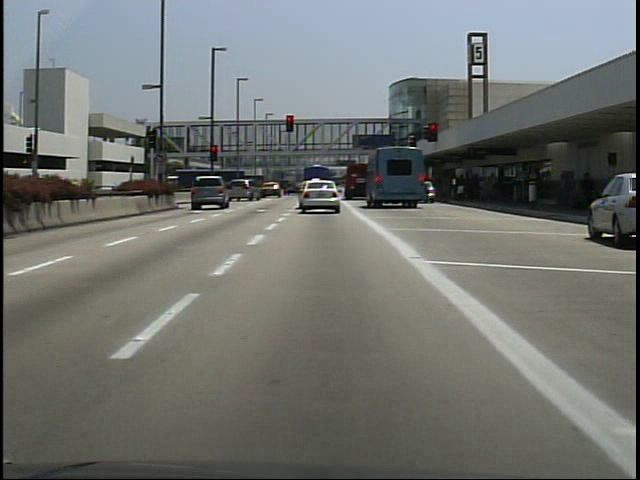person: (578, 168, 597, 222)
